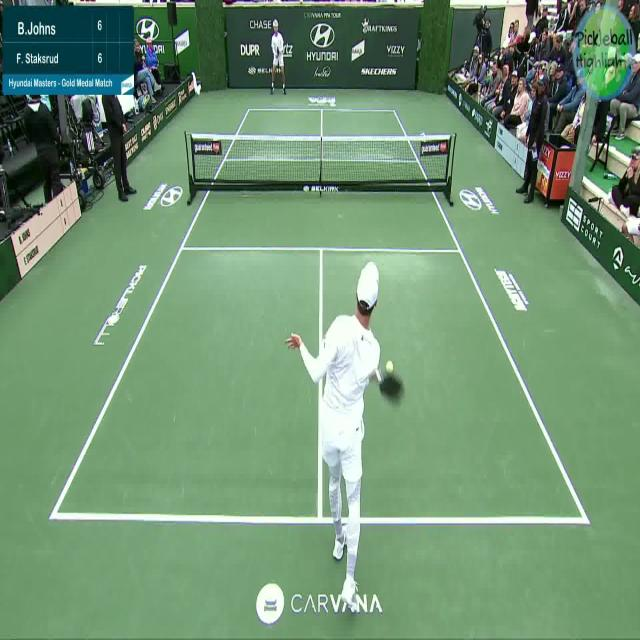ball: (386, 358, 394, 375)
